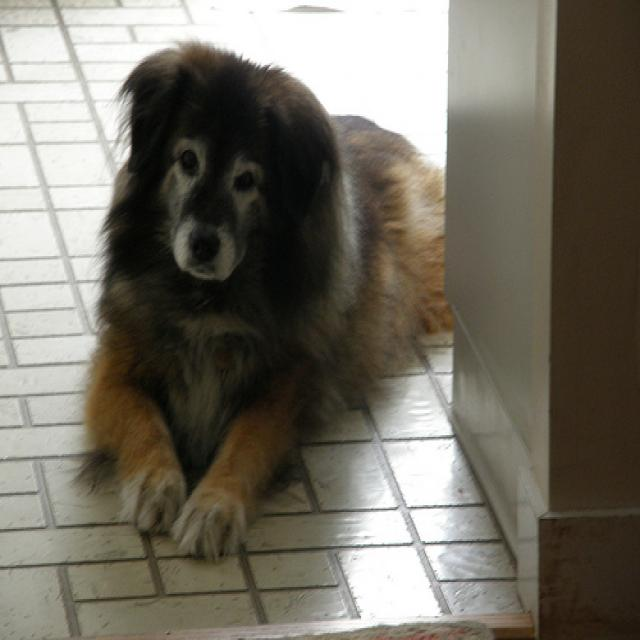dog-leonberger: (73, 26, 453, 560)
